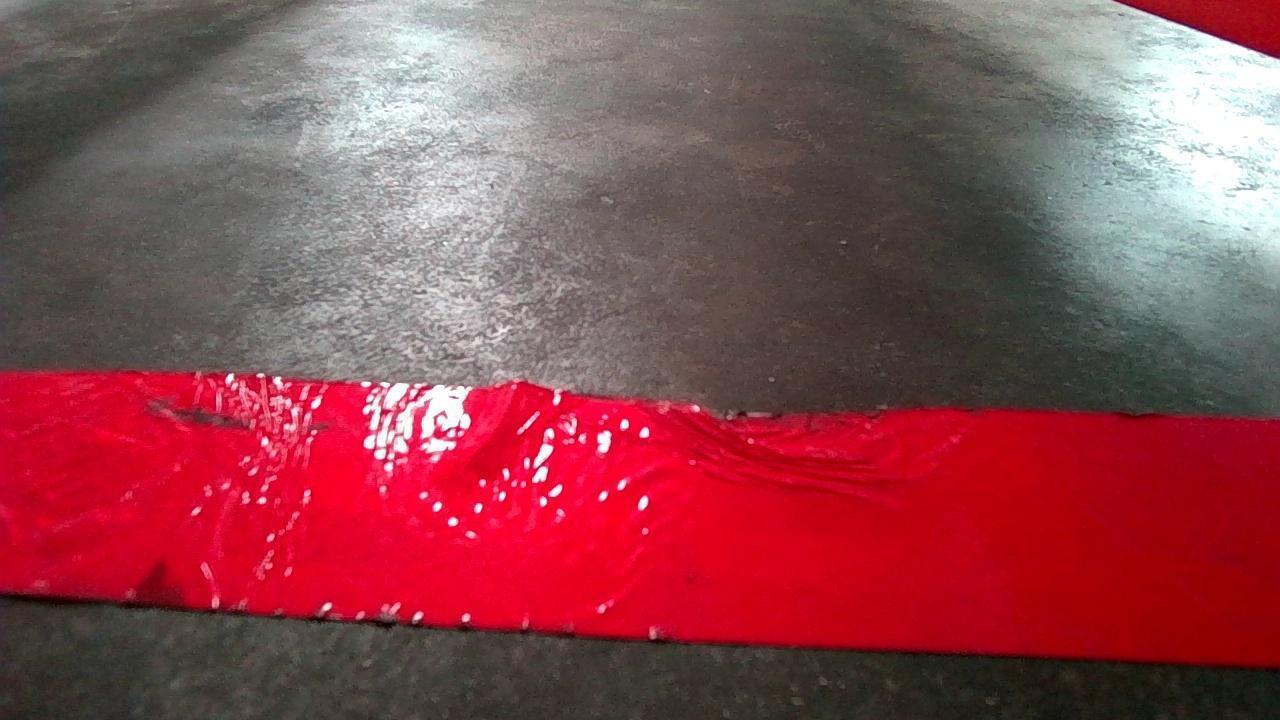red_line: (43, 347, 1265, 666)
